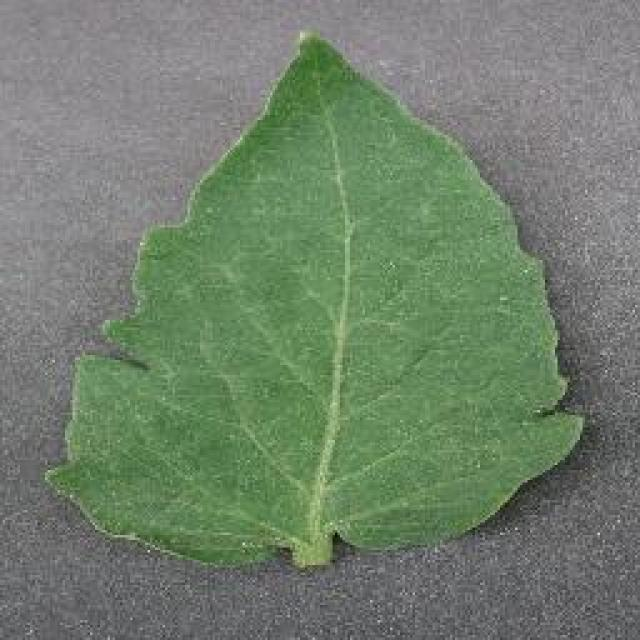Tomato_Healthy: (30, 18, 595, 566)
